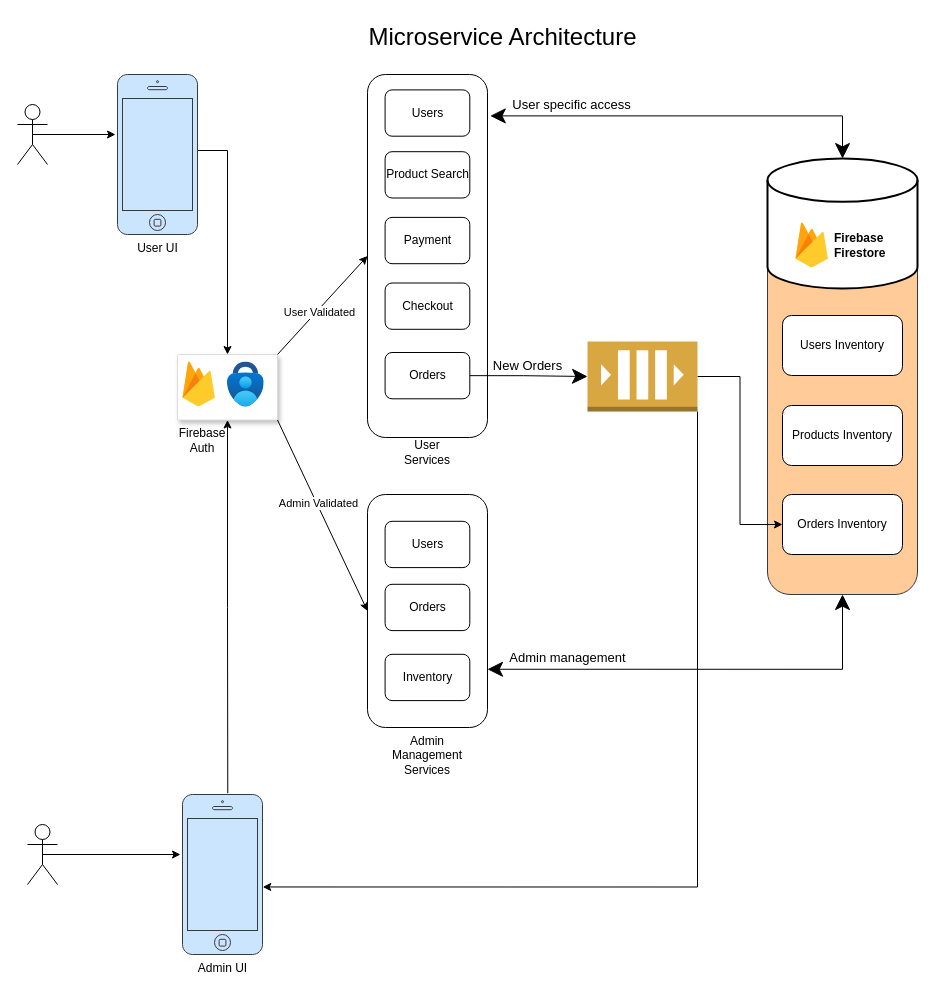
Some shapes in this 936 by 992 pixel diagram are drawn without their labels. Here are the shapes that lost their labels. From the top down, the centre of each, then its label:
At point (32, 134): "User".
At point (642, 376): "Orders Queue".
At point (42, 854): "Amin".
